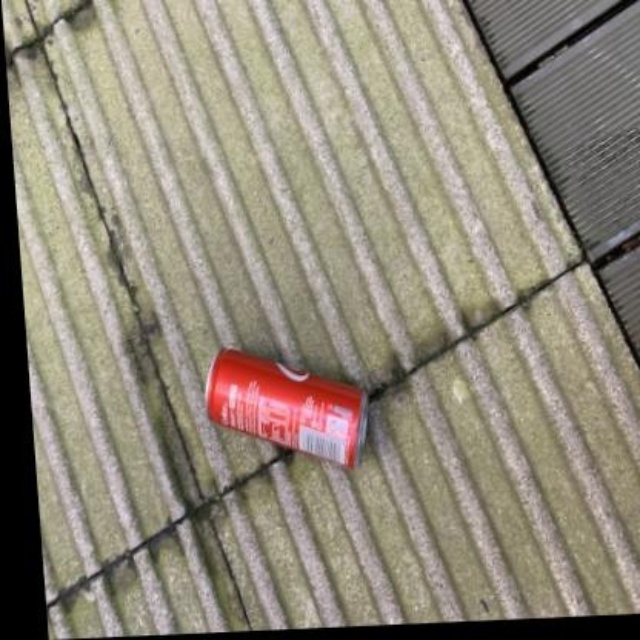trash: (206, 348, 366, 466)
